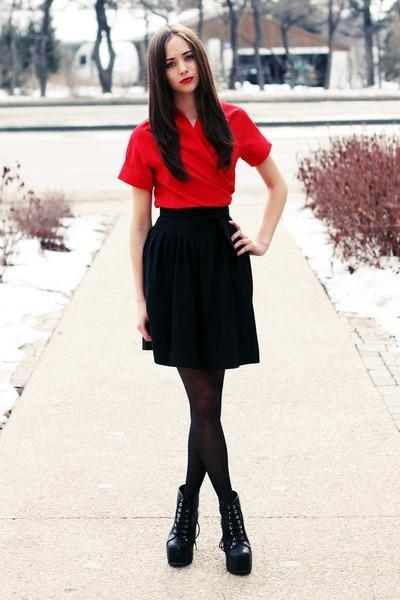shirt: (118, 104, 271, 208)
shoe: (166, 476, 251, 576)
skirt: (141, 206, 259, 369)
